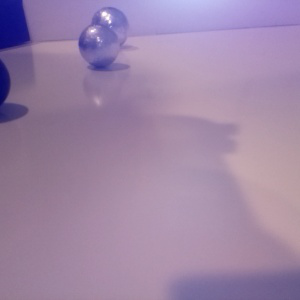alive_ball: (78, 23, 119, 67), (90, 6, 129, 47)
dead_ball: (1, 59, 11, 104)
